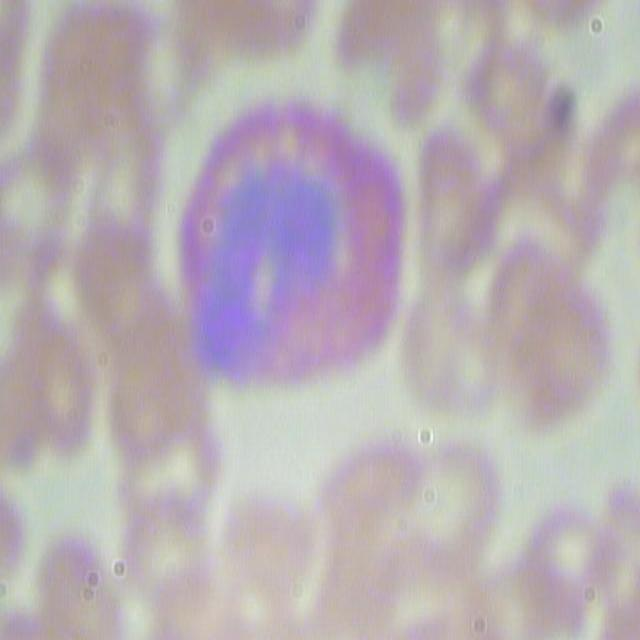RBC: (491, 239, 614, 426), (220, 495, 355, 626), (114, 392, 236, 521), (386, 443, 506, 574), (331, 0, 467, 114), (4, 296, 89, 464), (416, 131, 501, 291), (99, 313, 207, 437), (21, 519, 121, 640), (65, 200, 163, 317), (475, 4, 563, 132), (48, 2, 162, 100), (170, 3, 323, 74), (517, 504, 616, 612), (123, 499, 214, 609), (6, 144, 75, 282), (105, 115, 156, 223)
WBC: (161, 114, 410, 390)
